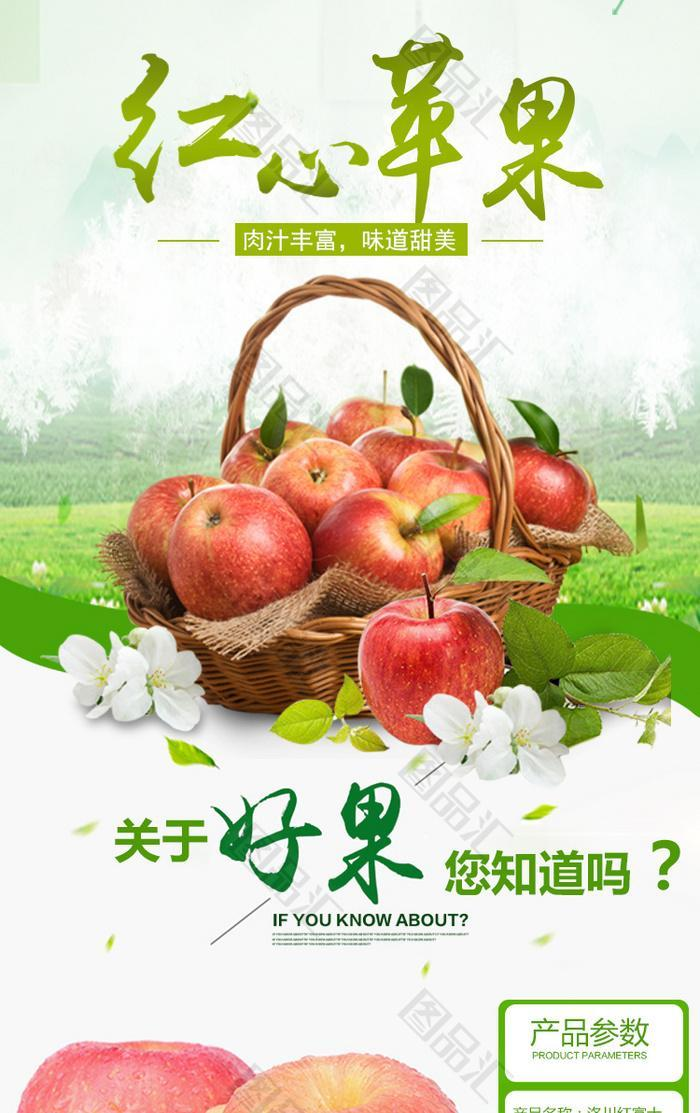apple: (358, 587, 505, 747), (160, 483, 308, 622), (313, 486, 445, 583), (129, 470, 228, 590), (260, 436, 383, 524), (384, 449, 492, 533), (506, 441, 594, 531), (222, 417, 329, 487)
